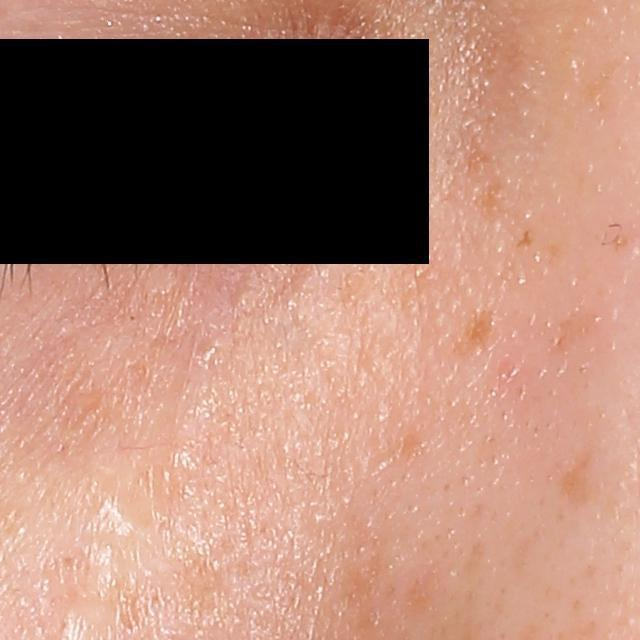melasma: (461, 143, 510, 227), (545, 297, 604, 357), (398, 567, 451, 622), (554, 451, 596, 513), (451, 303, 501, 351)
